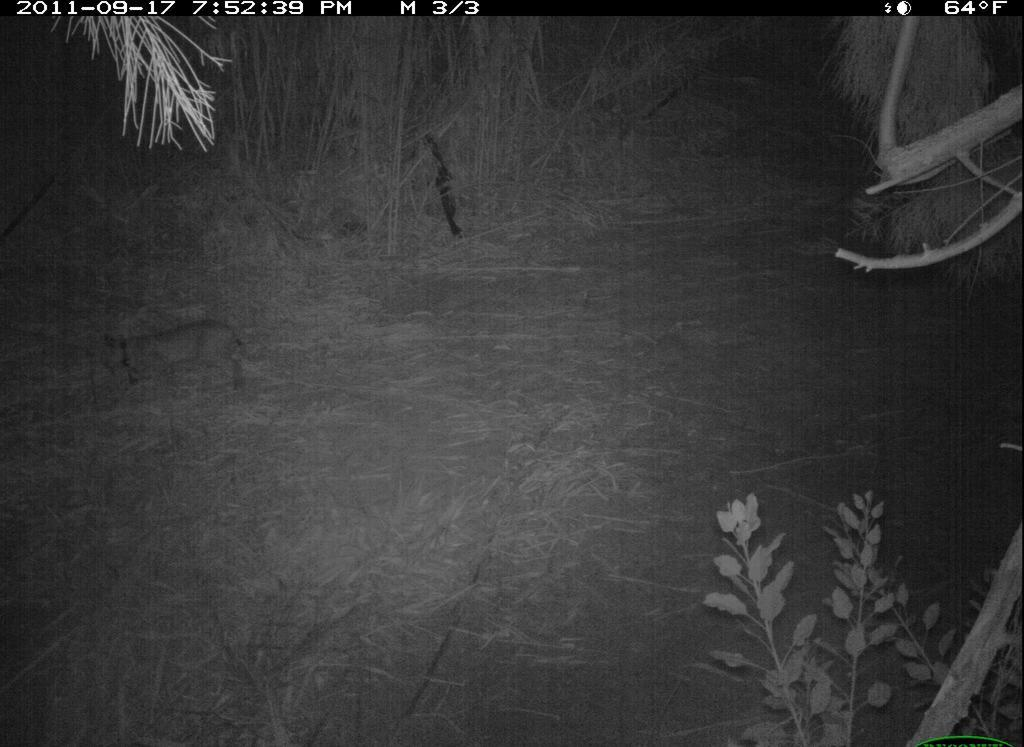bobcat: (94, 306, 260, 410)
